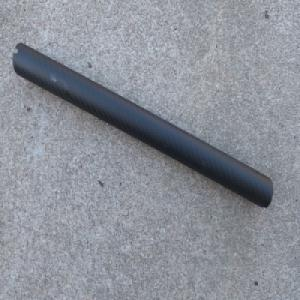LuggagePart: (10, 38, 275, 210)
